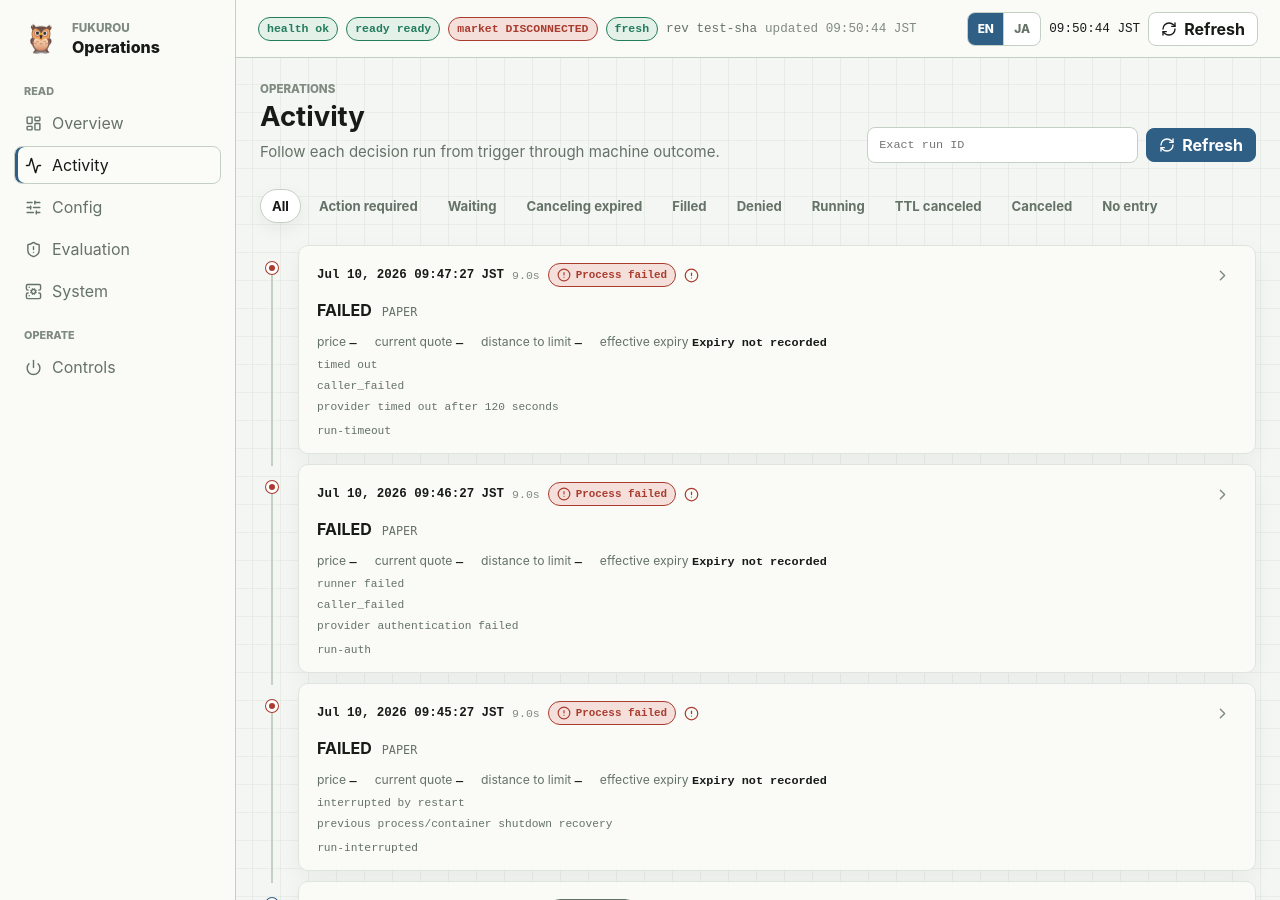
Test: App › keeps generic terminal codes separate from redacted failure details
Expected: the text "timed out" is shown, left=317, top=359, right=377, bottom=371
Expected: the text "runner failed" is shown, left=317, top=578, right=404, bottom=590
Click the button named "run-interrupted". click: (1222, 713)
box: left=1208, top=704, right=1237, bottom=723
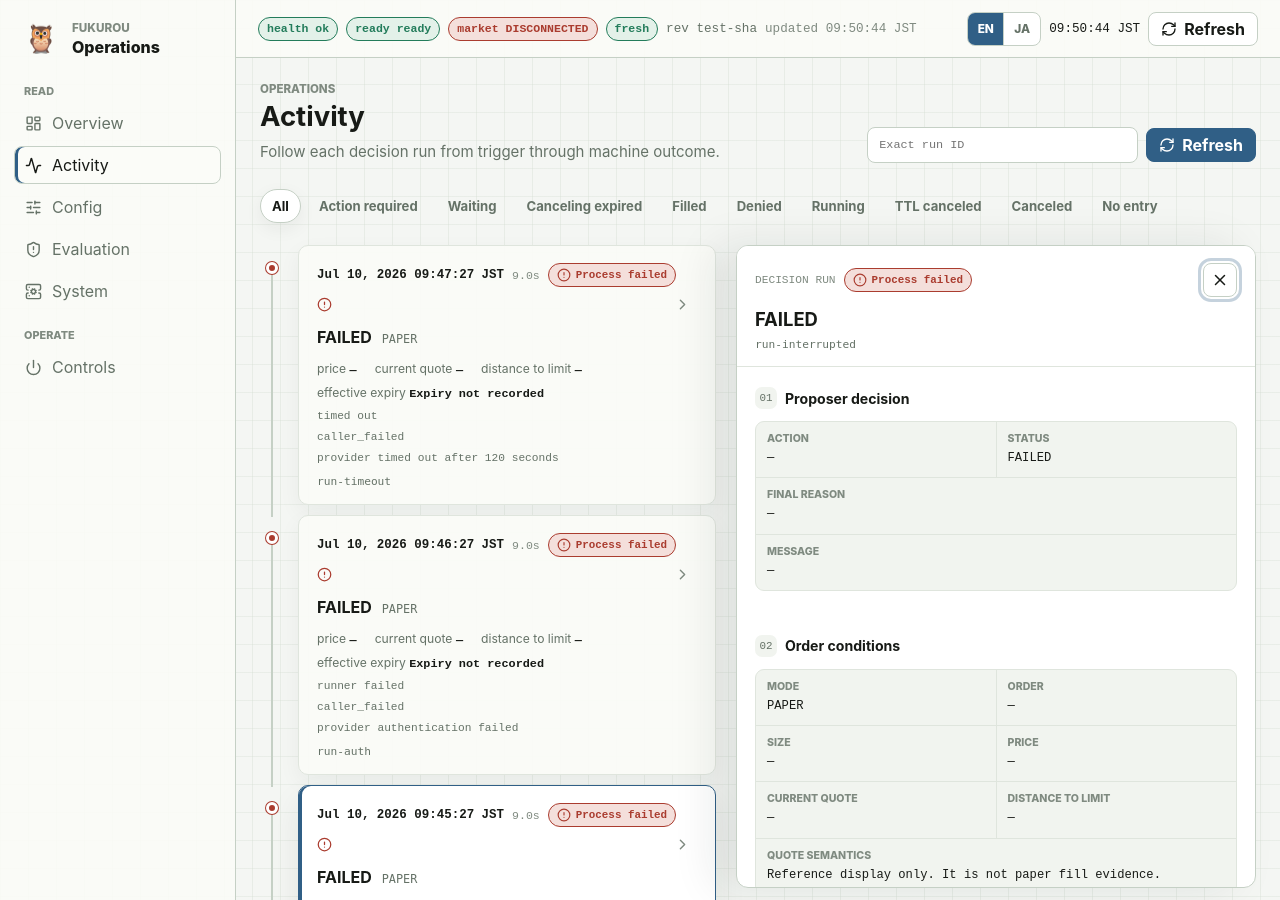
Click the button named "run-timeout". click: (682, 305)
box: left=668, top=295, right=697, bottom=314
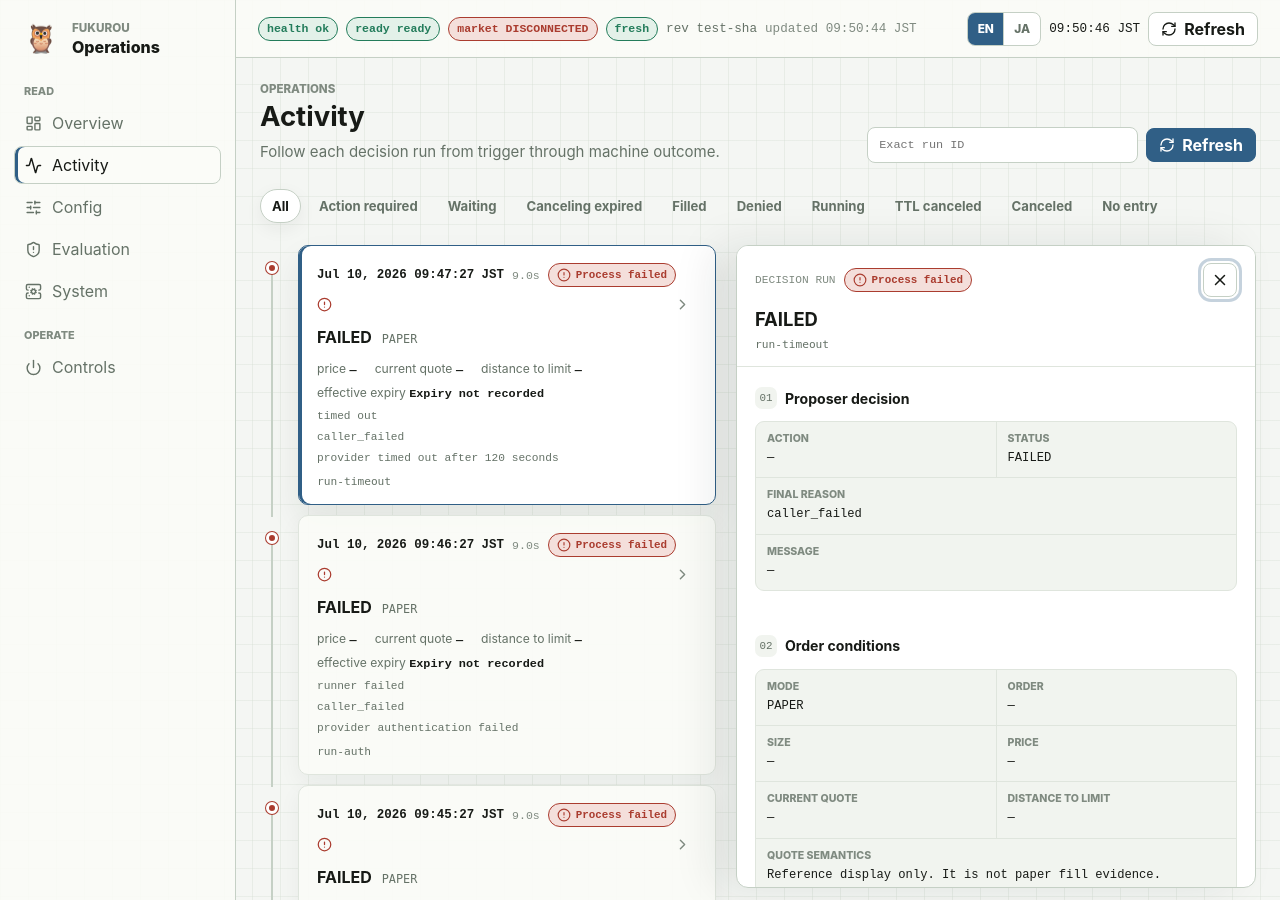
Expected: the heading "Proposer decision" is shown, left=785, top=390, right=910, bottom=407
Expected: the text "caller_failed" below "final reason" is shown, left=767, top=508, right=862, bottom=522
